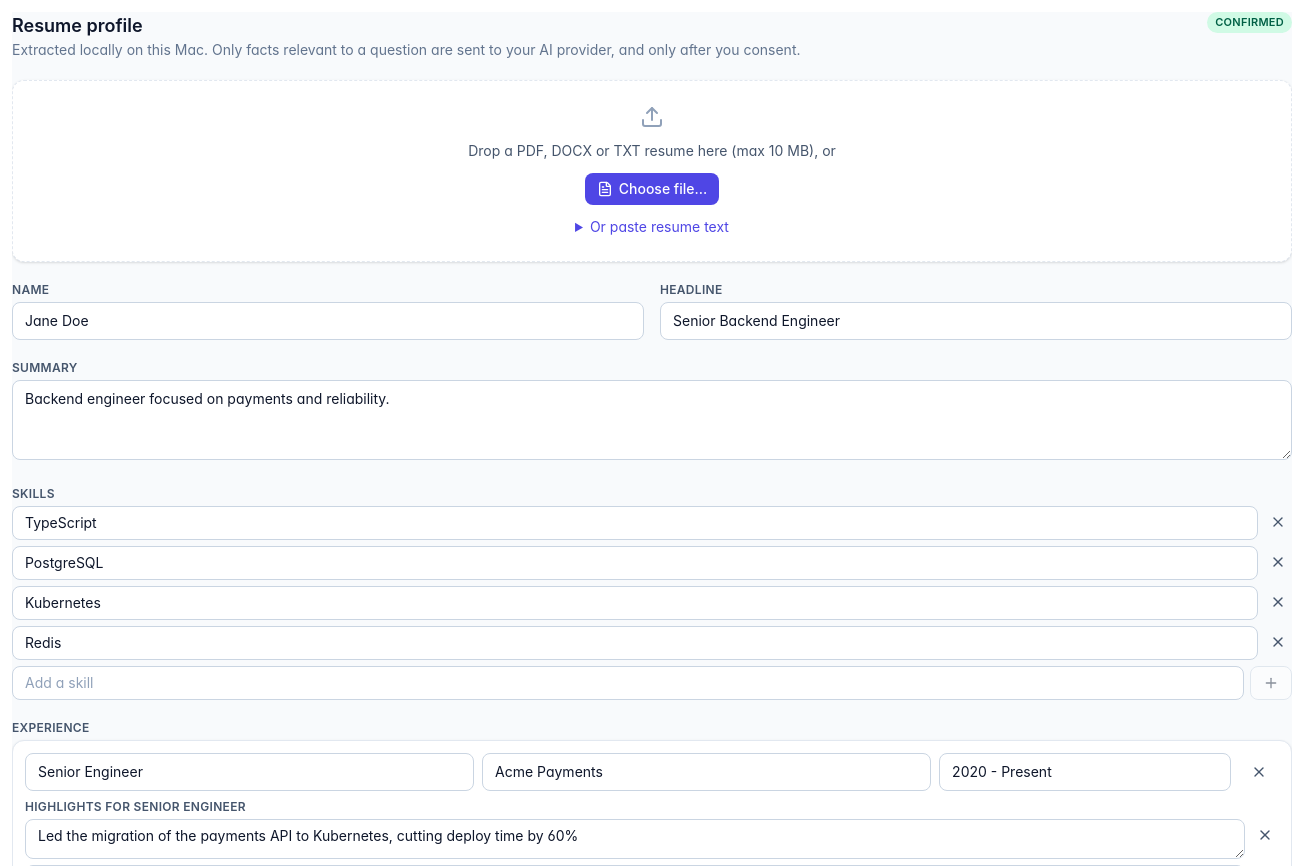
ResumeProfileEditor › marks edits of a confirmed profile as unconfirmed until saved again
This screenshot has width=1304, height=866.
Expected: the text with test id "profile-status" reads "Confirmed", [1215,15,1284,29]
Type "!" into the field labelled "Headline" at x=976, y=321, box [660,302,1292,340]
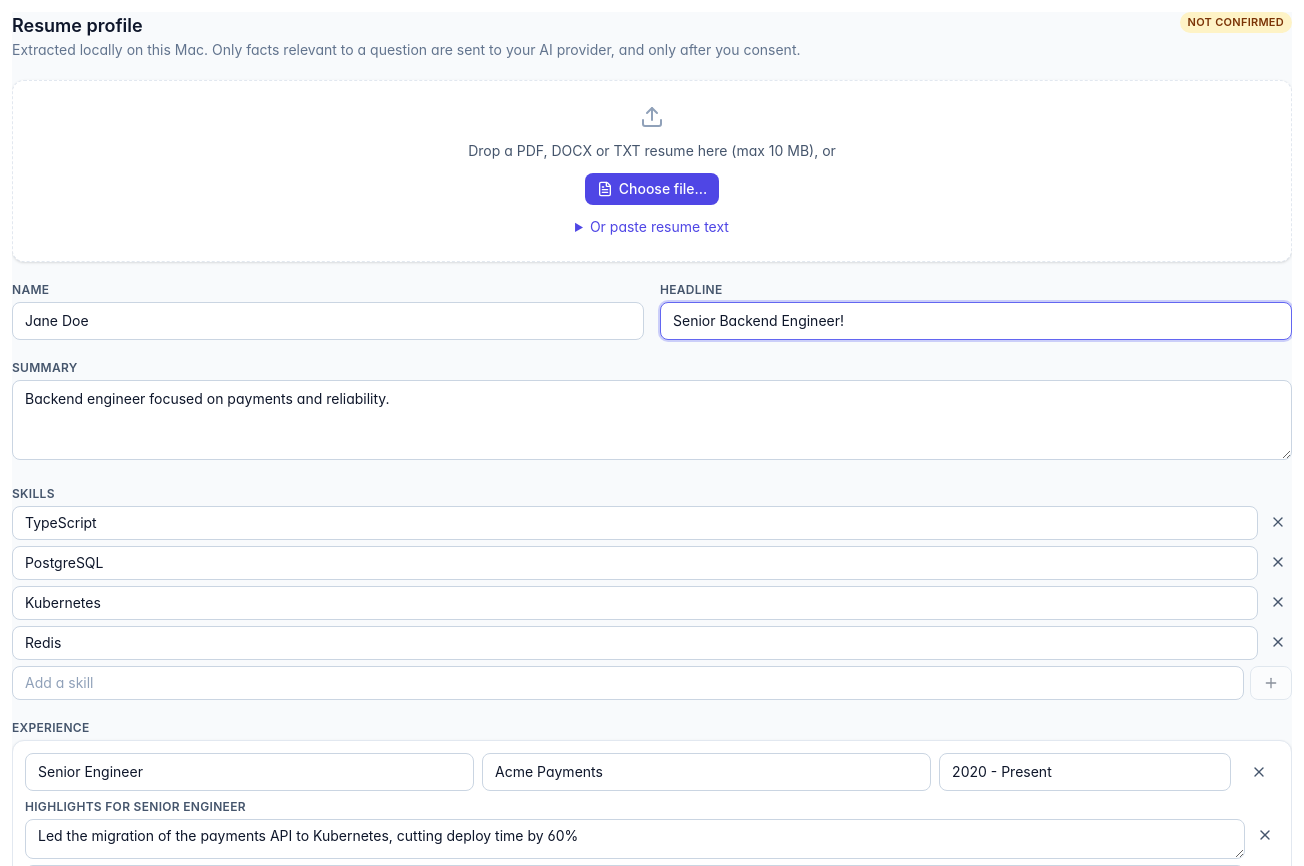
Expected: the text with test id "profile-status" reads "Not confirmed", [1188,15,1284,29]
